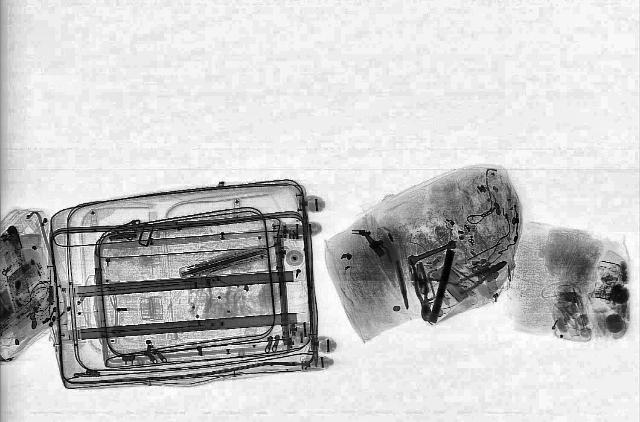Pliers: (446, 256, 512, 296), (408, 262, 438, 322)
Wrench: (404, 238, 460, 264)
